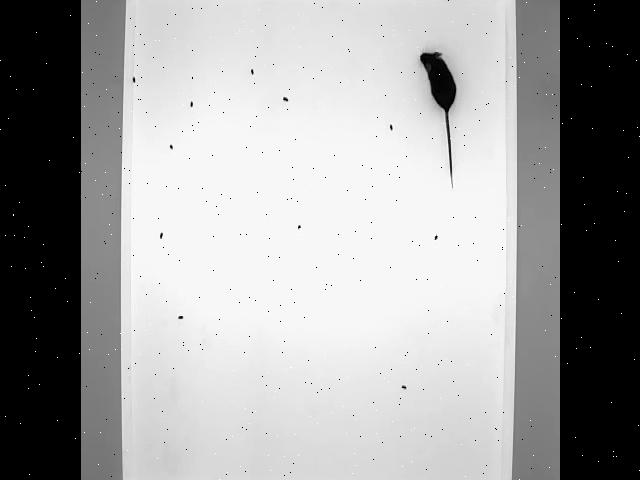Tikus: (418, 50, 456, 190)
